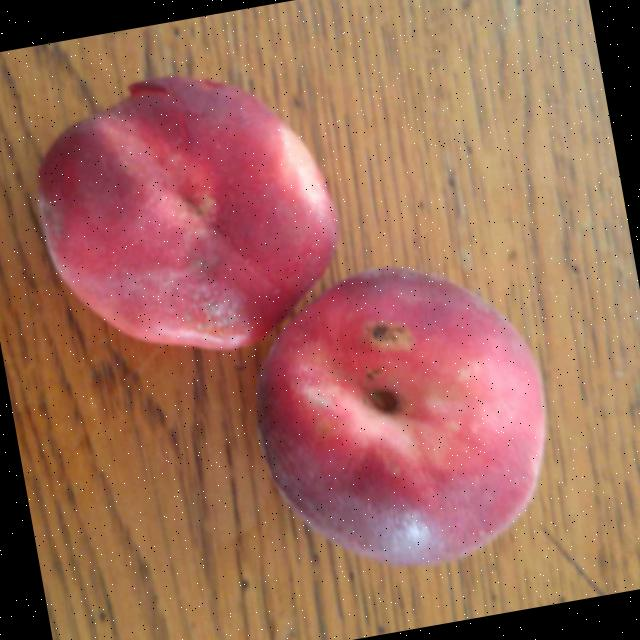peach: (0, 49, 551, 567)
